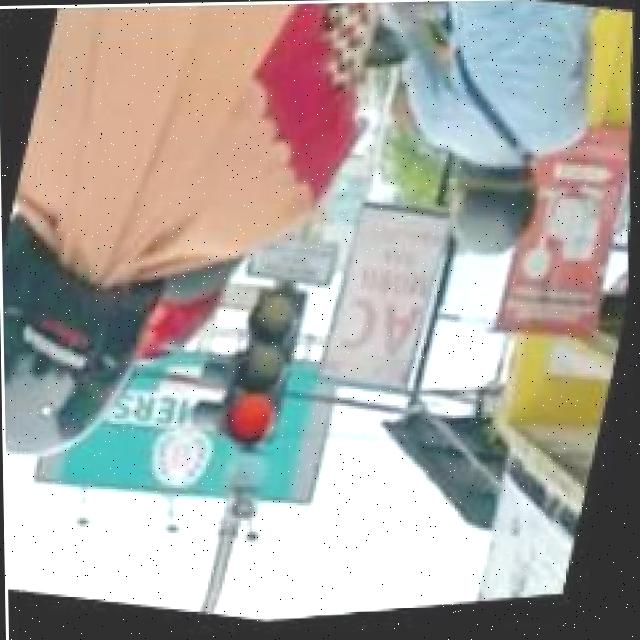red_light: (218, 284, 314, 450)
